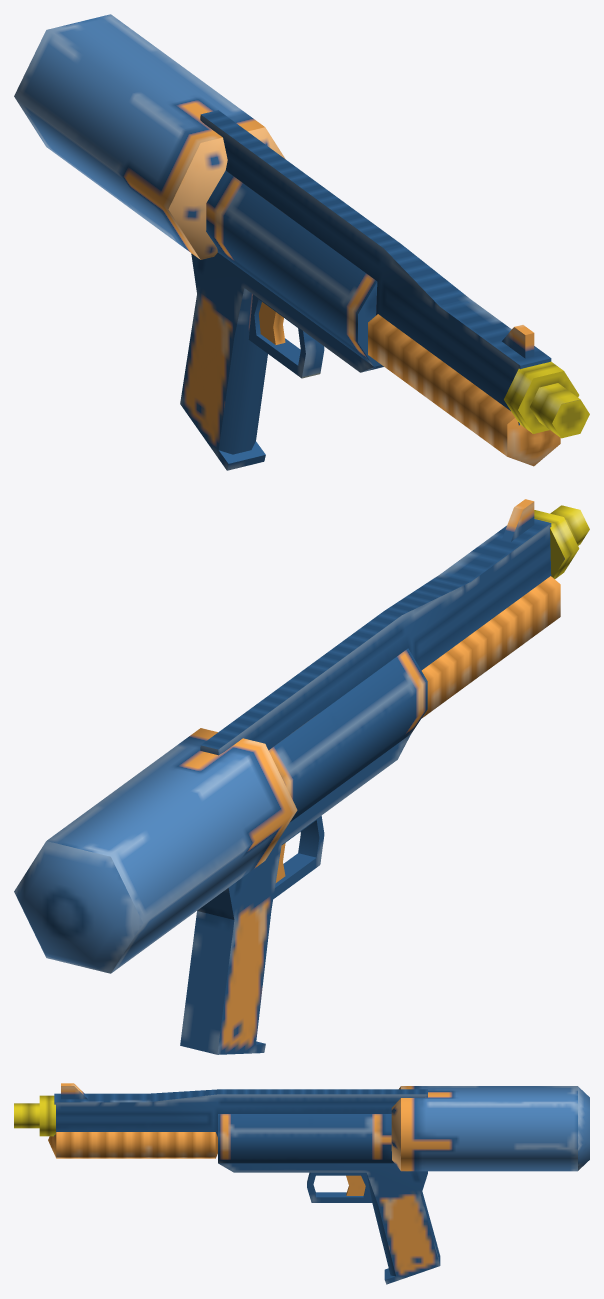
Rendered from Water_Gun_AR.FBX.
3 renders of one model, top to bottom at view 1: azimuth 30°, elevation 25°; view 2: azimuth 150°, elevation 25°; view 3: azimuth 270°, elevation 25°, orthographic. The views are drawn at different scales.
Parts seen in each view (by area): view 1: Water_Gun_AR; view 2: Water_Gun_AR; view 3: Water_Gun_AR.
Part boxes in pixels (box(x1,y1,x2,y2)): Water_Gun_AR: box(14, 14, 589, 470); Water_Gun_AR: box(14, 499, 589, 1054); Water_Gun_AR: box(14, 1083, 589, 1284).
Bounding box in the file's own units: 8.53 × 57.55 × 21.47.
